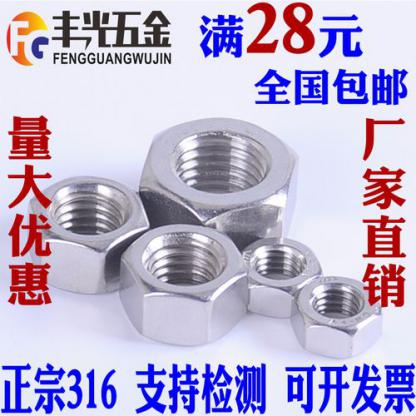FOD: (137, 115, 301, 260), (116, 223, 248, 350), (22, 175, 153, 295), (287, 275, 384, 362), (228, 235, 325, 316)
